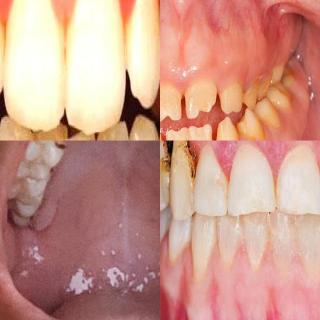Gum Swelling: (160, 238, 320, 320), (160, 44, 274, 96)
calculus: (271, 212, 295, 274), (243, 213, 267, 269), (298, 218, 320, 276), (208, 171, 235, 215), (220, 220, 241, 262)
stains: (172, 141, 194, 203), (269, 168, 288, 216), (160, 140, 172, 198), (47, 140, 72, 164), (39, 161, 56, 185)
